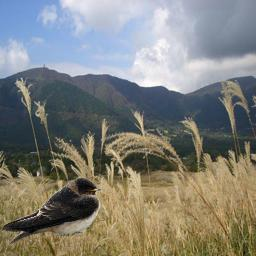Swallow: (2, 177, 102, 245)
